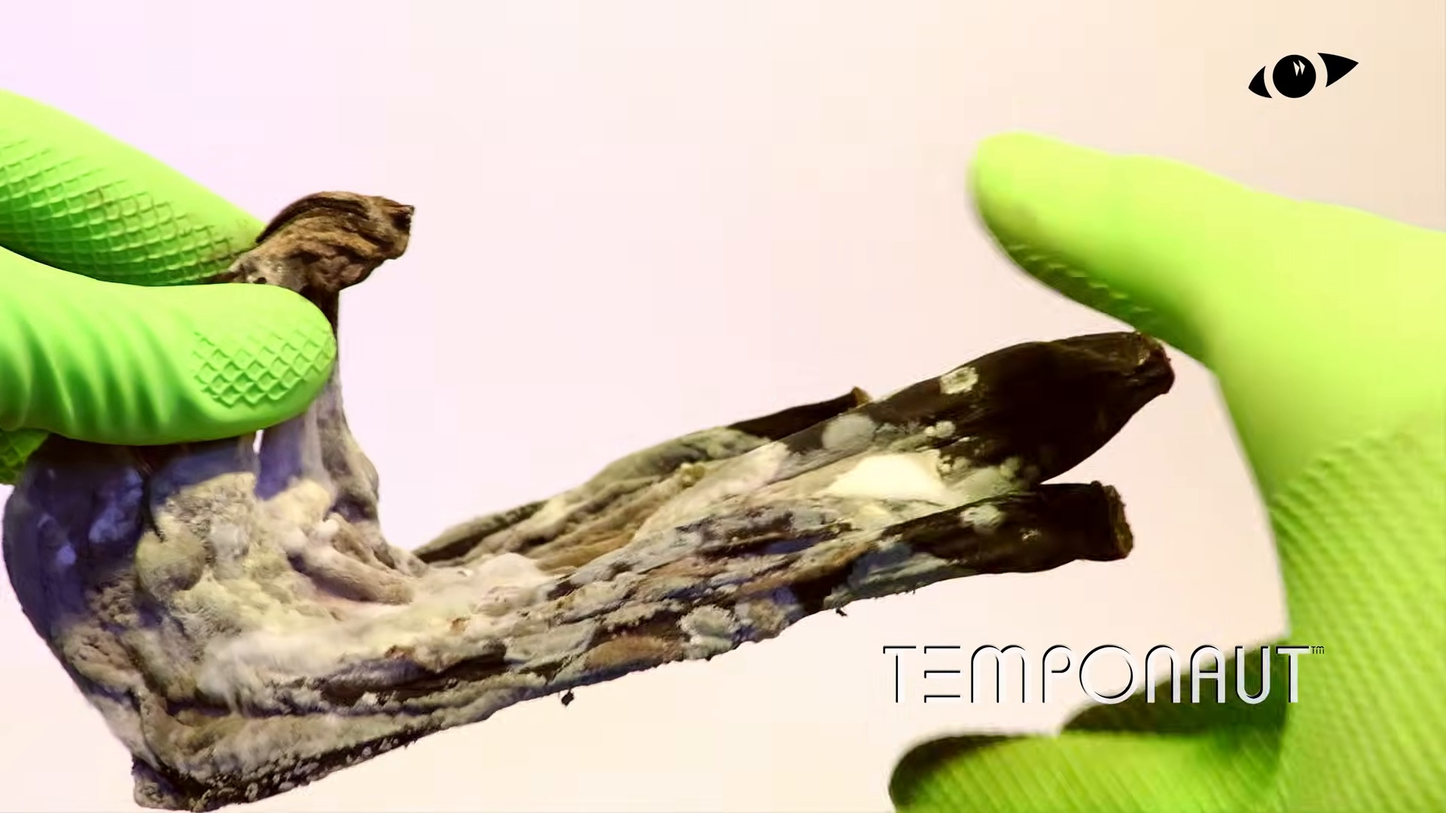banana_rotten: (952, 130, 1445, 802)
